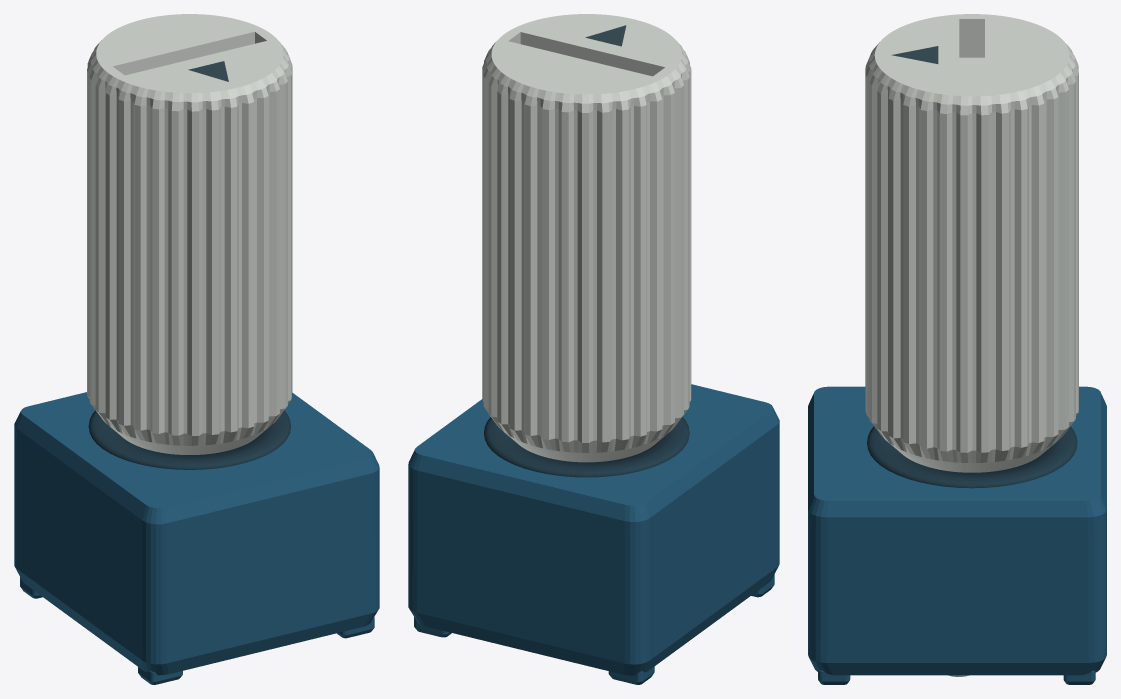
Rendered from potentiometer-3362.glb.
3 views of the same model, side by side, from view 1: azimuth 30°, elevation 25°; view 2: azimuth 150°, elevation 25°; view 3: azimuth 270°, elevation 25° (orthographic). The views are drawn at different scales.
Visible parts, largest first — view 1: POT_KNURLED_KNOB, POT_MOLDED_HOUSING, POT_FIXED_BEARING_RING, POT_BASE_SEAL_AND_EGRESS; view 2: POT_KNURLED_KNOB, POT_MOLDED_HOUSING, POT_FIXED_BEARING_RING, POT_BASE_SEAL_AND_EGRESS; view 3: POT_KNURLED_KNOB, POT_MOLDED_HOUSING, POT_FIXED_BEARING_RING, POT_BASE_SEAL_AND_EGRESS, POT_ANGLE_MARKER.
Boxes of the visible parts, x1,y1,x2,y2 form: POT_KNURLED_KNOB: (87,14,292,454); POT_MOLDED_HOUSING: (14,392,379,675); POT_FIXED_BEARING_RING: (88,410,290,469); POT_BASE_SEAL_AND_EGRESS: (20,577,374,684); POT_KNURLED_KNOB: (482,14,691,462); POT_MOLDED_HOUSING: (408,384,779,675); POT_FIXED_BEARING_RING: (484,417,689,477); POT_BASE_SEAL_AND_EGRESS: (414,574,774,684); POT_KNURLED_KNOB: (865,14,1078,472); POT_MOLDED_HOUSING: (808,386,1106,675); POT_FIXED_BEARING_RING: (867,426,1077,488); POT_BASE_SEAL_AND_EGRESS: (818,670,1095,684); POT_ANGLE_MARKER: (891,46,938,63).
Size of the model in its own units: 0.66 by 1.48 by 0.699.
